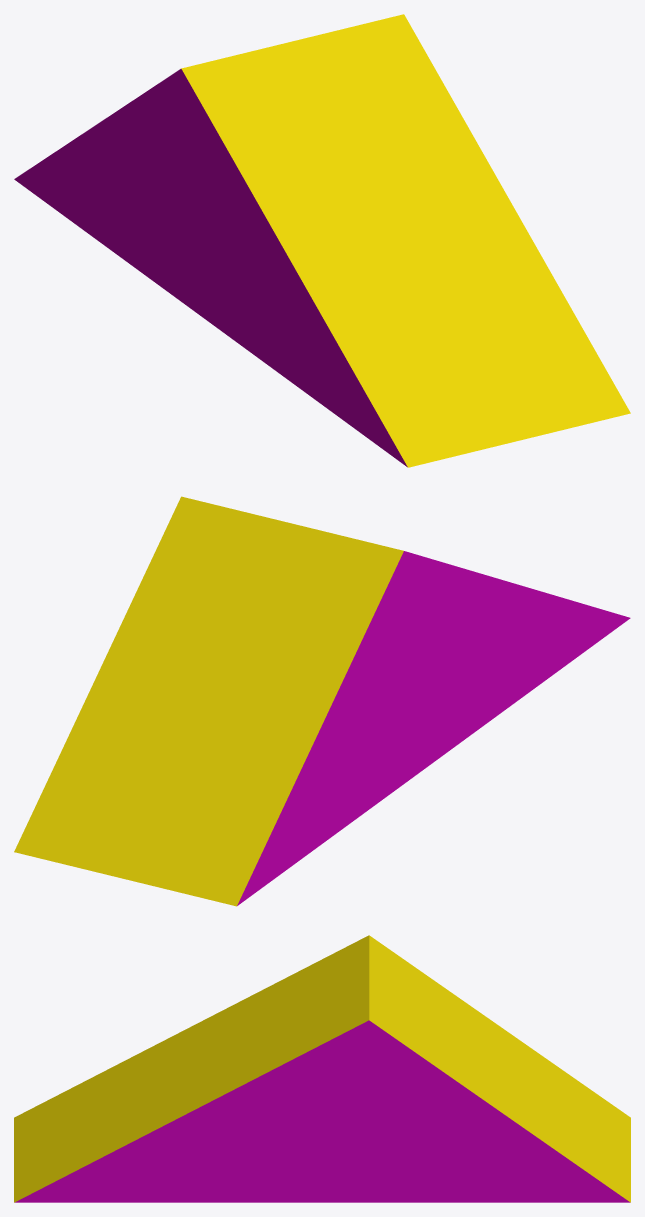
Rendered from PlatformType1.fbx.
3 views of the same model, one above another, from view 1: azimuth 30°, elevation 25°; view 2: azimuth 150°, elevation 25°; view 3: azimuth 270°, elevation 25° (orthographic). The views are drawn at different scales.
Parts seen in each view (by area): view 1: PlatformType2; view 2: PlatformType2; view 3: PlatformType2.
Part boxes in pixels (x1,y1,x2,y2): PlatformType2: (14, 14, 630, 467); PlatformType2: (14, 496, 630, 906); PlatformType2: (14, 935, 630, 1202).
Bounding box in the file's own units: 1.5 × 1.5 × 4.6.
